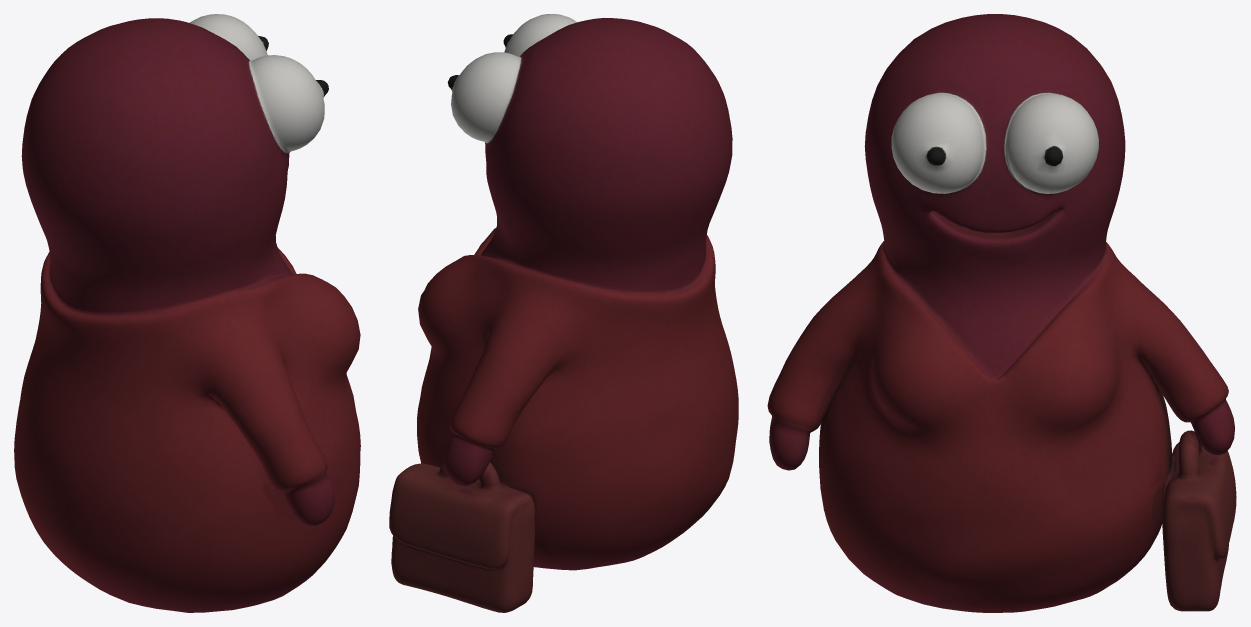
File: joan.glb
3 renders of one model, left to right at view 1: azimuth 30°, elevation 25°; view 2: azimuth 150°, elevation 25°; view 3: azimuth 270°, elevation 25°, orthographic. The views are drawn at different scales.
Visible parts, largest first — view 1: tripo_node_6e68a1b6; view 2: tripo_node_6e68a1b6; view 3: tripo_node_6e68a1b6.
Part boxes in pixels (<box>): tripo_node_6e68a1b6: <box>14,14,360,612</box>; tripo_node_6e68a1b6: <box>389,14,738,612</box>; tripo_node_6e68a1b6: <box>767,14,1236,612</box>.
Size of the model in its own units: 0.5679 by 0.9996 by 0.7968.
Materials: 1 (1 with a texture image).
